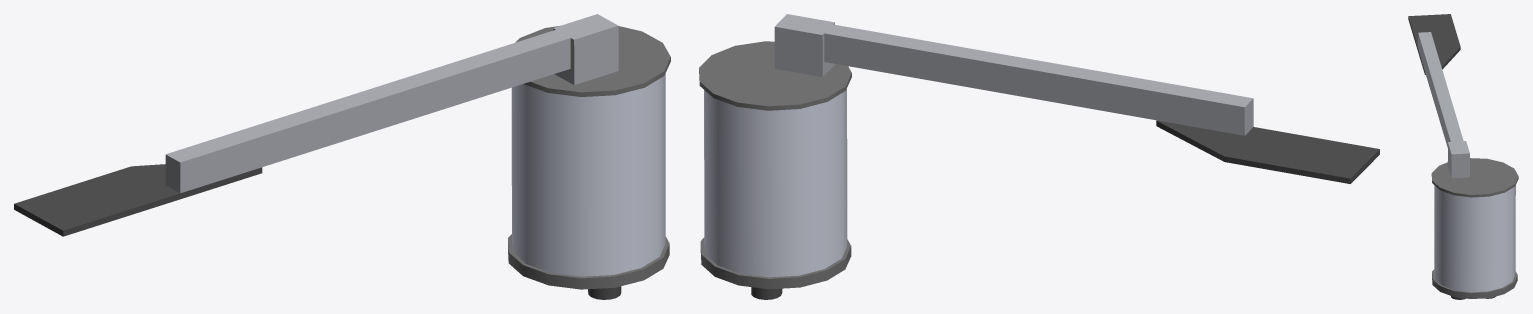
Rendered from Femur_Mirrored.obj.
3 renders of one model, left to right at view 1: azimuth 30°, elevation 25°; view 2: azimuth 150°, elevation 25°; view 3: azimuth 270°, elevation 25°, orthographic. The views are drawn at different scales.
Visible parts, largest first — view 1: Femur_Mirrored; view 2: Femur_Mirrored; view 3: Femur_Mirrored.
Boxes of the visible parts, left/top/right/bottom form: Femur_Mirrored: left=14, top=14, right=670, bottom=299; Femur_Mirrored: left=699, top=14, right=1379, bottom=299; Femur_Mirrored: left=1408, top=14, right=1518, bottom=299.
Bounding box in the file's own units: 2.31 × 0.9012 × 0.6243.
